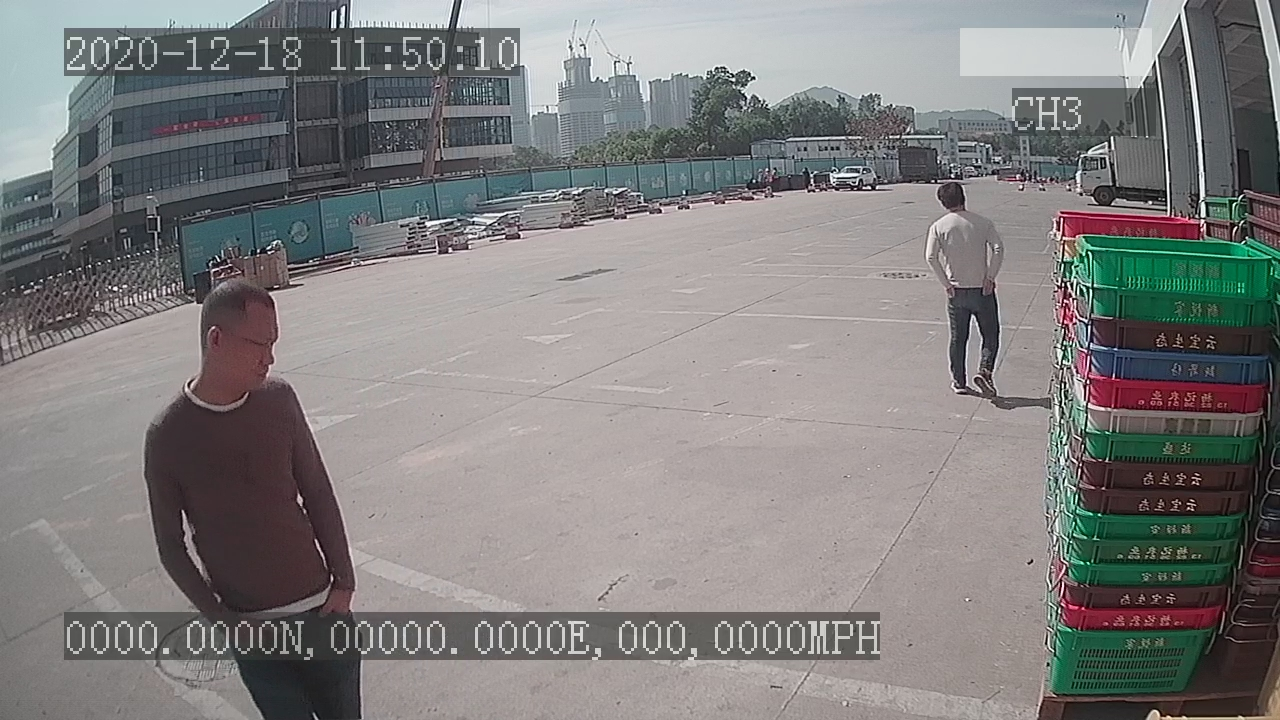person: (922, 179, 1009, 406)
